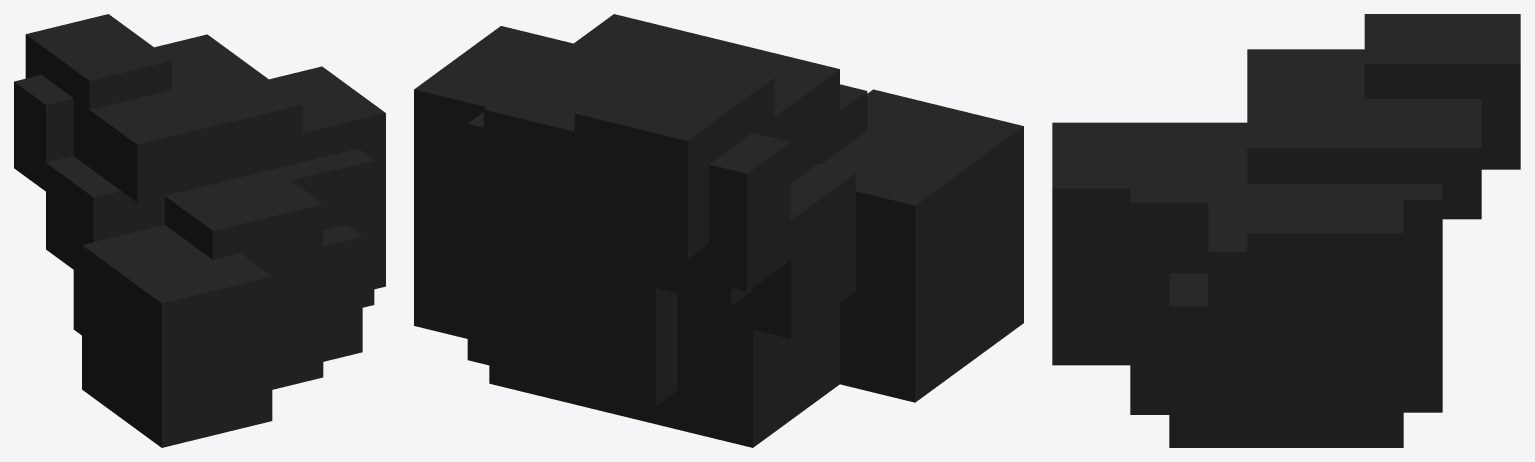
The model's file is ParticleForPetrolPlant.obj.
3 views of the same model, side by side, from view 1: azimuth 30°, elevation 25°; view 2: azimuth 150°, elevation 25°; view 3: azimuth 270°, elevation 25° (orthographic). The views are drawn at different scales.
Bounding box in the file's own units: 1.1 × 0.9 × 1.2.
1 material, 1 textured.
